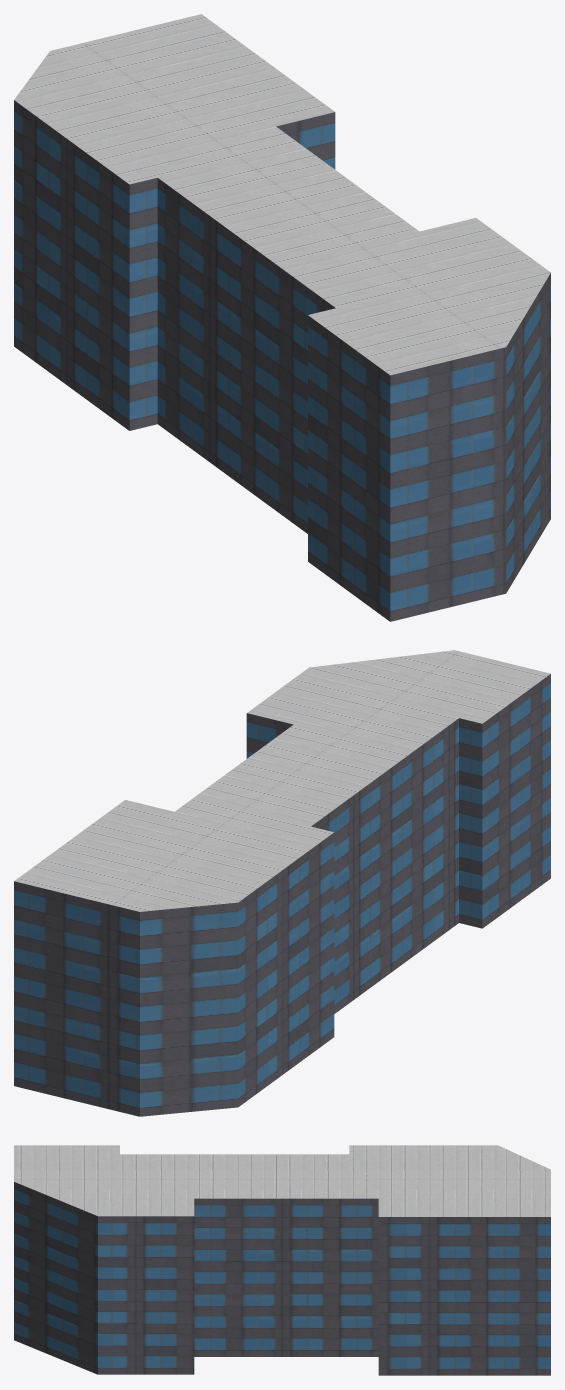
The model's file is Building2.fbx.
The picture shows the model from 3 angles, top to bottom: view 1: azimuth 30°, elevation 25°; view 2: azimuth 150°, elevation 25°; view 3: azimuth 270°, elevation 25°; orthographic projection. The views are drawn at different scales.
Visible parts, largest first — view 1: Building1; view 2: Building1; view 3: Building1.
Part boxes in pixels (x1,y1,x2,y2): Building1: (14, 14, 550, 621); Building1: (14, 650, 550, 1116); Building1: (14, 1145, 550, 1375).
Bounding box in the file's own units: 29810 × 30700 × 94243.
